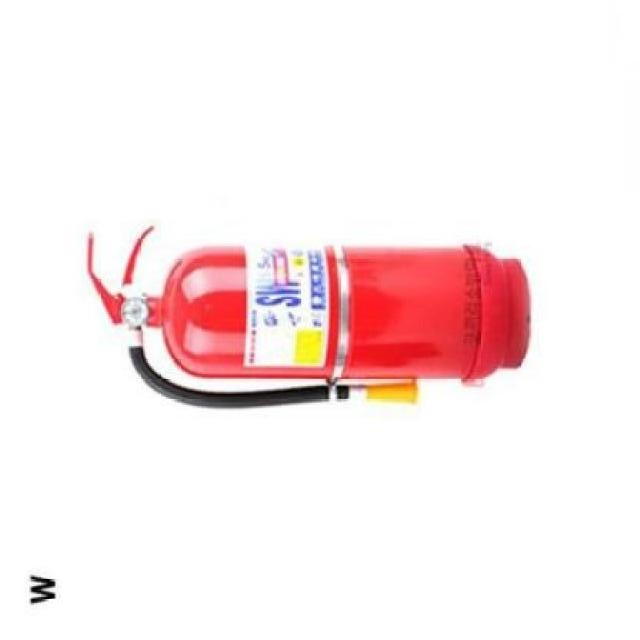fire extinguisher: (87, 226, 531, 411)
